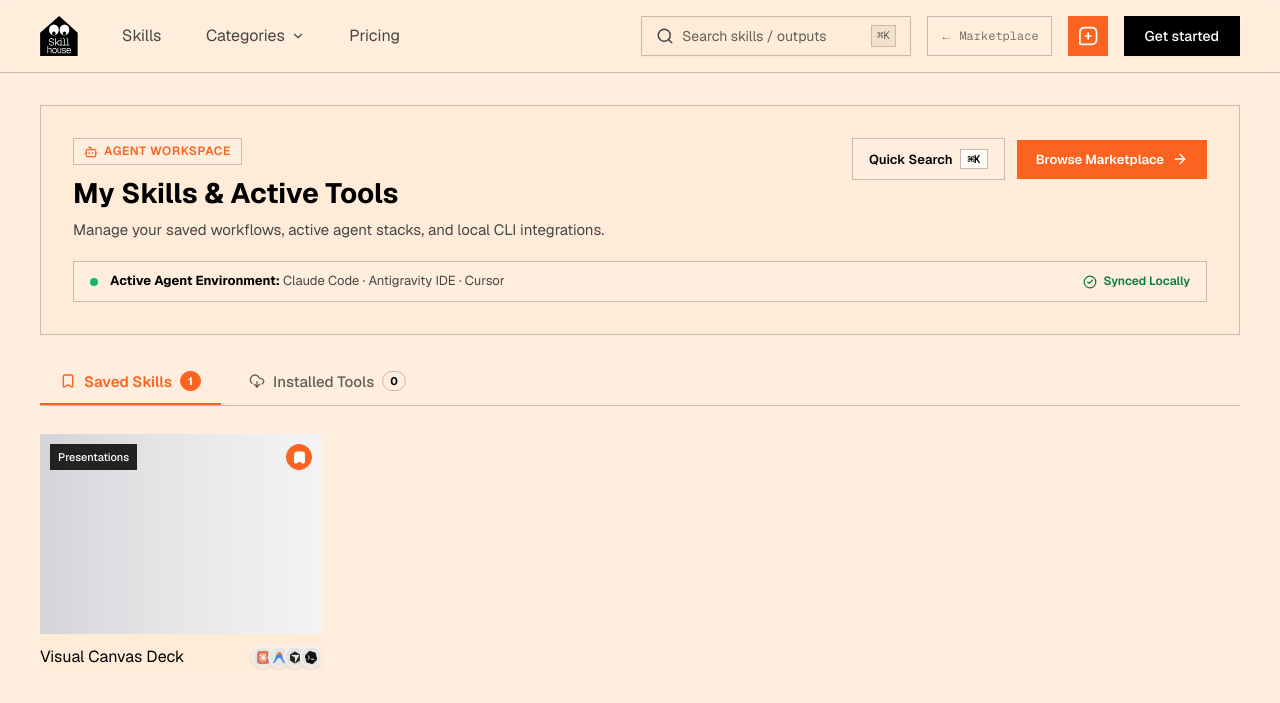
it: MySkillsWorkspace Component › renders empty state in installed tab when no tools are installed
The image size is (1280, 703).
What coordinates should you click on to do the following:
click the tab with test id "tab-installed-skills"
I would click on:
 (327, 382)
Its box is [229, 359, 426, 405].
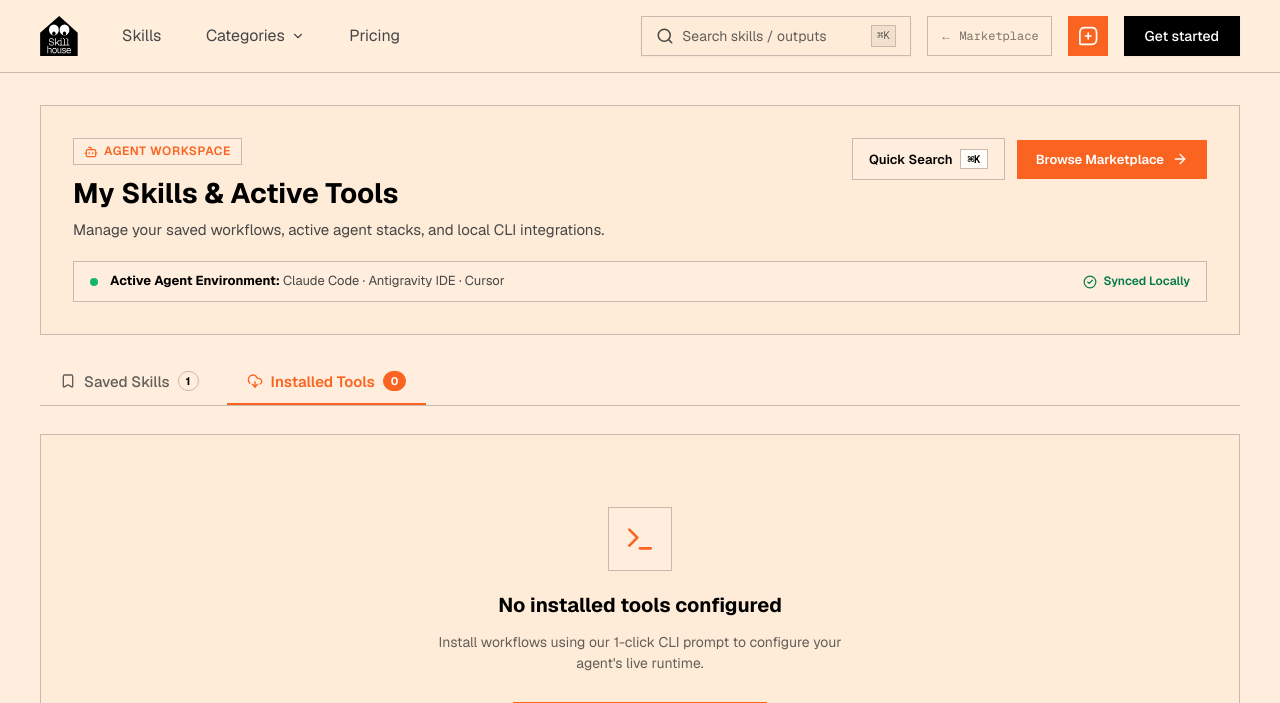
Expected: the heading "No installed tools configured" is shown, [498, 591, 782, 620]
